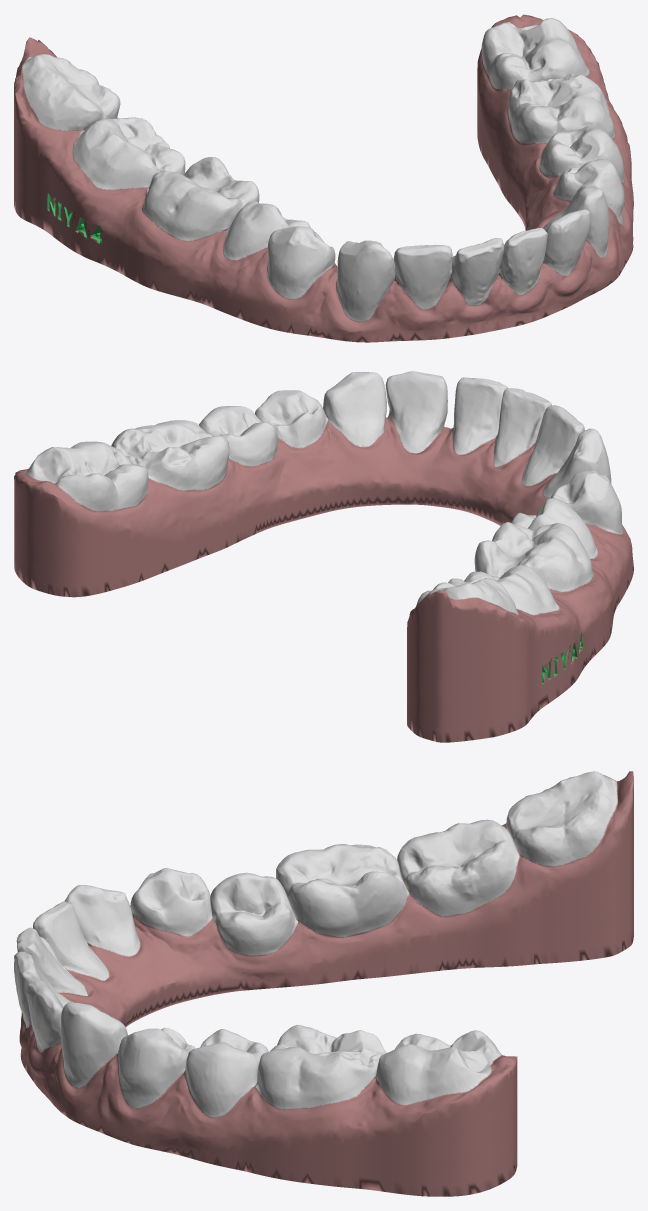
Rendered from Niya Priority Lower jaw - 04 - Model.glb.
3 views of the same model, one above another, from view 1: azimuth 30°, elevation 25°; view 2: azimuth 150°, elevation 25°; view 3: azimuth 270°, elevation 25° (orthographic). The views are drawn at different scales.
Visible parts, largest first — view 1: Niya Priority Lower jaw - 04 - Model; view 2: Niya Priority Lower jaw - 04 - Model; view 3: Niya Priority Lower jaw - 04 - Model.
Part boxes in pixels (x1=…): Niya Priority Lower jaw - 04 - Model: x1=14, y1=14, x2=633, y2=342; Niya Priority Lower jaw - 04 - Model: x1=14, y1=371, x2=633, y2=742; Niya Priority Lower jaw - 04 - Model: x1=14, y1=771, x2=633, y2=1196.
Size of the model in its own units: 62.72 by 16.53 by 57.16.
